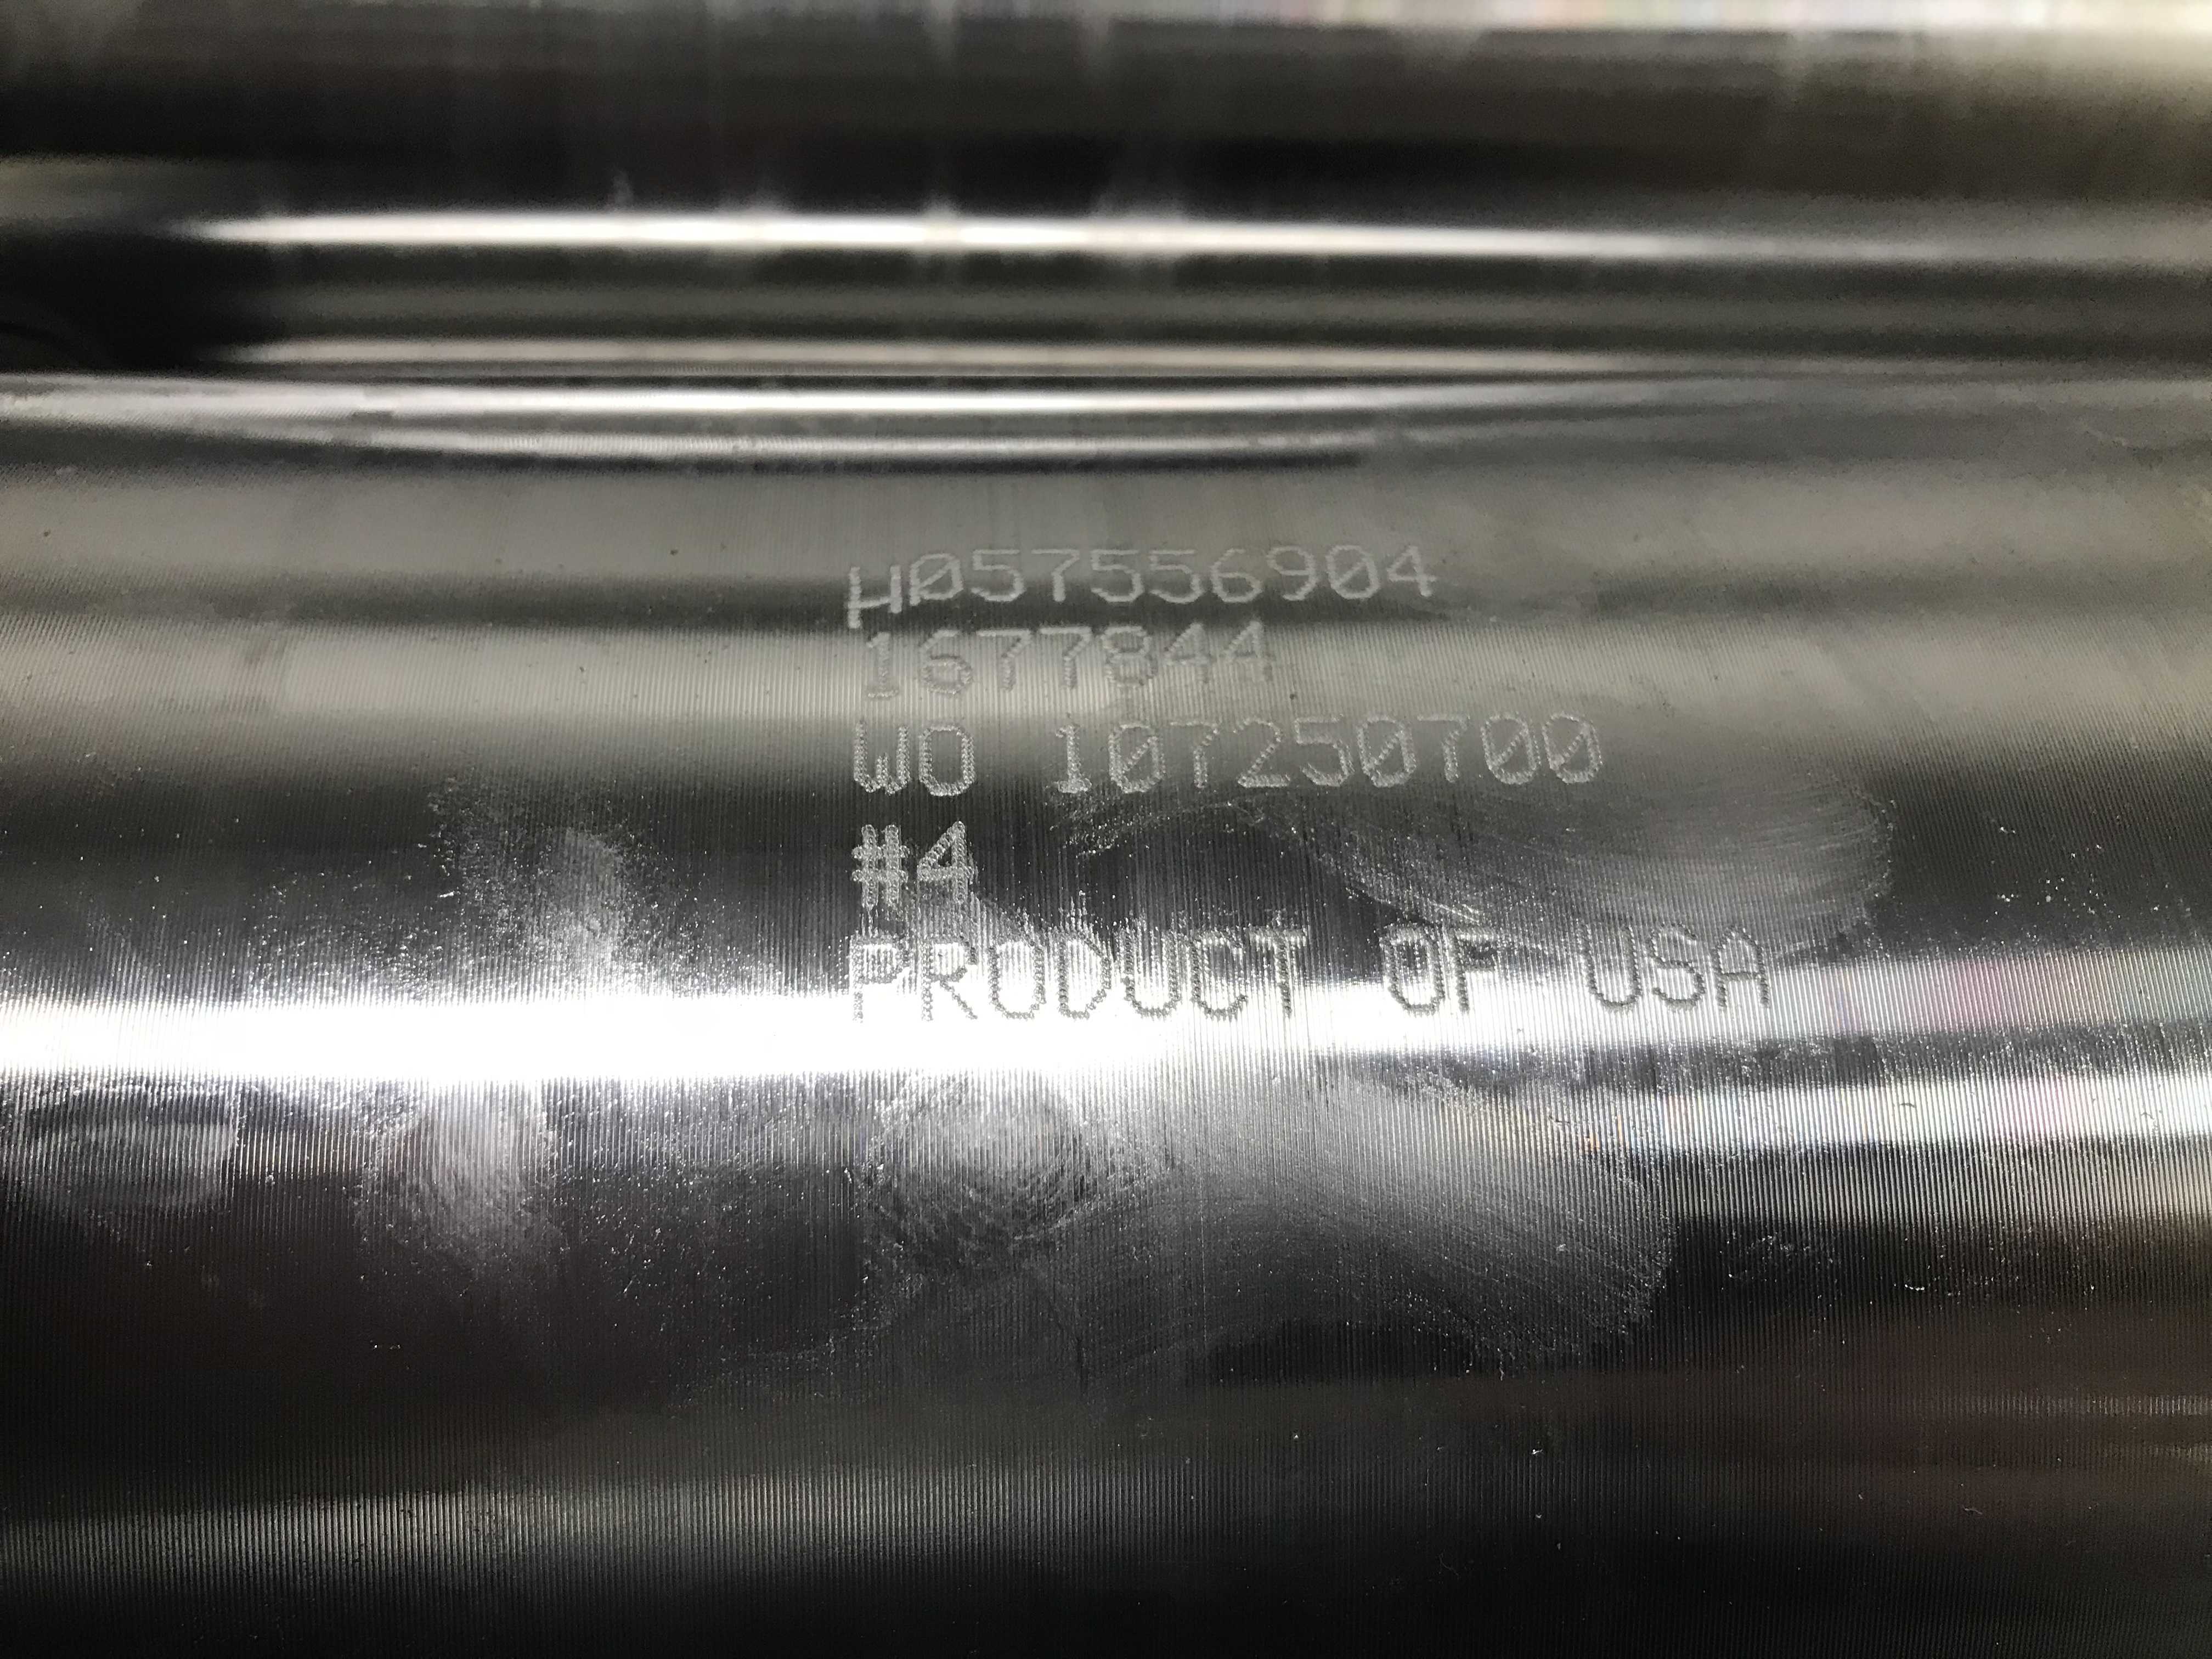character: (1376, 918, 1451, 1019), (1702, 917, 1775, 1014), (1247, 920, 1313, 1025), (1184, 925, 1252, 1025), (984, 929, 1052, 1026), (1116, 927, 1183, 1026), (1642, 918, 1710, 1014), (1578, 922, 1648, 1014), (1536, 702, 1608, 791), (911, 932, 981, 1023), (1226, 709, 1292, 803), (1474, 706, 1543, 795), (1050, 927, 1115, 1021), (1355, 706, 1420, 798), (846, 932, 911, 1025), (850, 817, 911, 915), (848, 713, 916, 800), (1444, 917, 1501, 1019), (1289, 708, 1353, 795), (1413, 706, 1475, 795), (911, 819, 977, 903), (1104, 713, 1169, 798), (914, 624, 982, 704), (1163, 713, 1226, 796), (916, 714, 977, 800), (1092, 619, 1160, 692), (1031, 617, 1097, 692), (1221, 613, 1285, 688), (974, 619, 1036, 695), (845, 558, 906, 636), (1143, 542, 1207, 615), (963, 544, 1029, 612), (1261, 538, 1324, 610), (1049, 716, 1101, 802), (1085, 542, 1146, 613), (1381, 537, 1442, 606), (1026, 538, 1085, 610), (1324, 538, 1381, 612), (1211, 542, 1264, 619), (1163, 617, 1221, 688), (909, 549, 967, 619), (860, 626, 906, 706)
